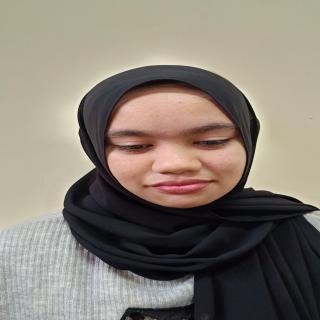Sedih: (93, 85, 271, 215)
